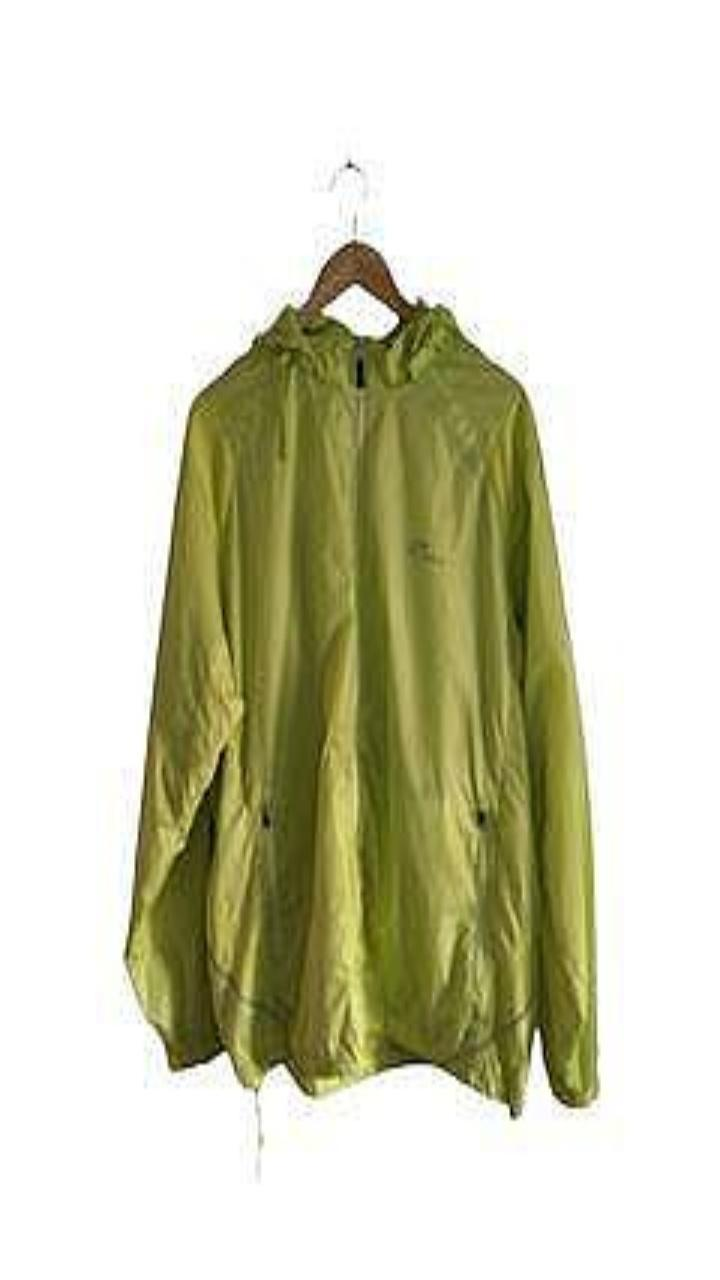Coat: (125, 299, 598, 1115)
